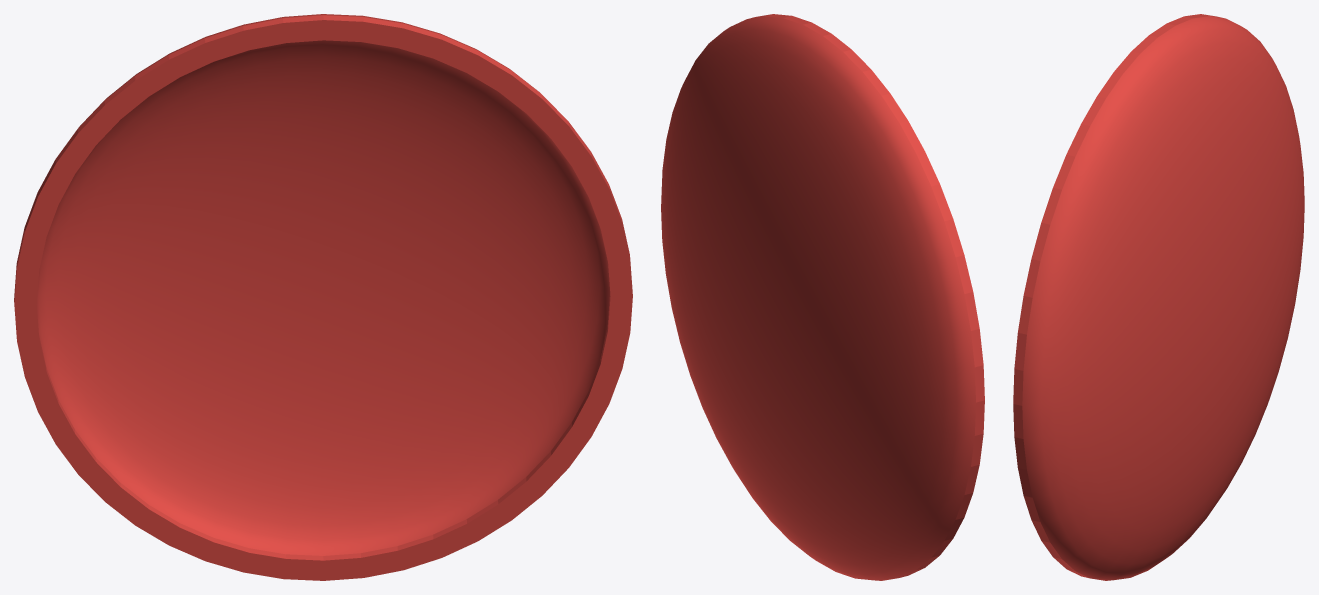
File: red.fbx
3 views of the same model, side by side, from view 1: azimuth 30°, elevation 25°; view 2: azimuth 150°, elevation 25°; view 3: azimuth 270°, elevation 25° (orthographic). The views are drawn at different scales.
Parts seen in each view (by area): view 1: Light; view 2: Light; view 3: Light.
Part boxes in pixels (x1,y1,x2,y2): Light: (14, 14, 632, 580); Light: (661, 14, 984, 580); Light: (1013, 14, 1304, 580).
Size of the model in its own units: 15.32 by 17.15 by 8.67.
